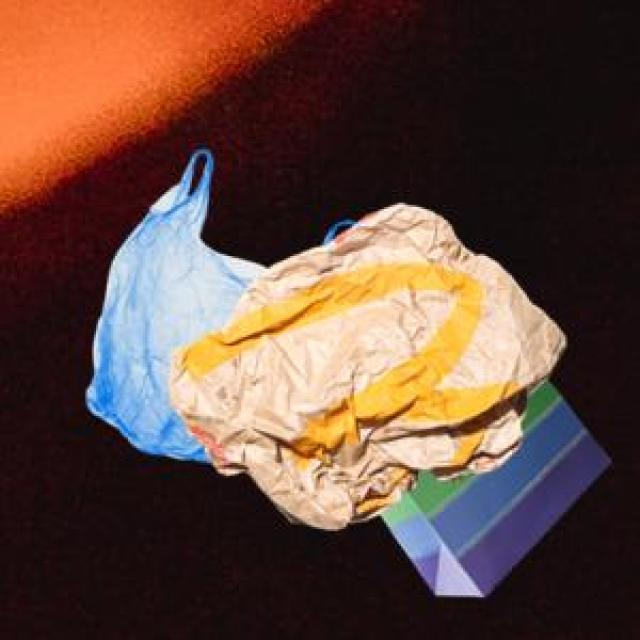paper: (166, 201, 561, 525), (378, 376, 606, 593)
